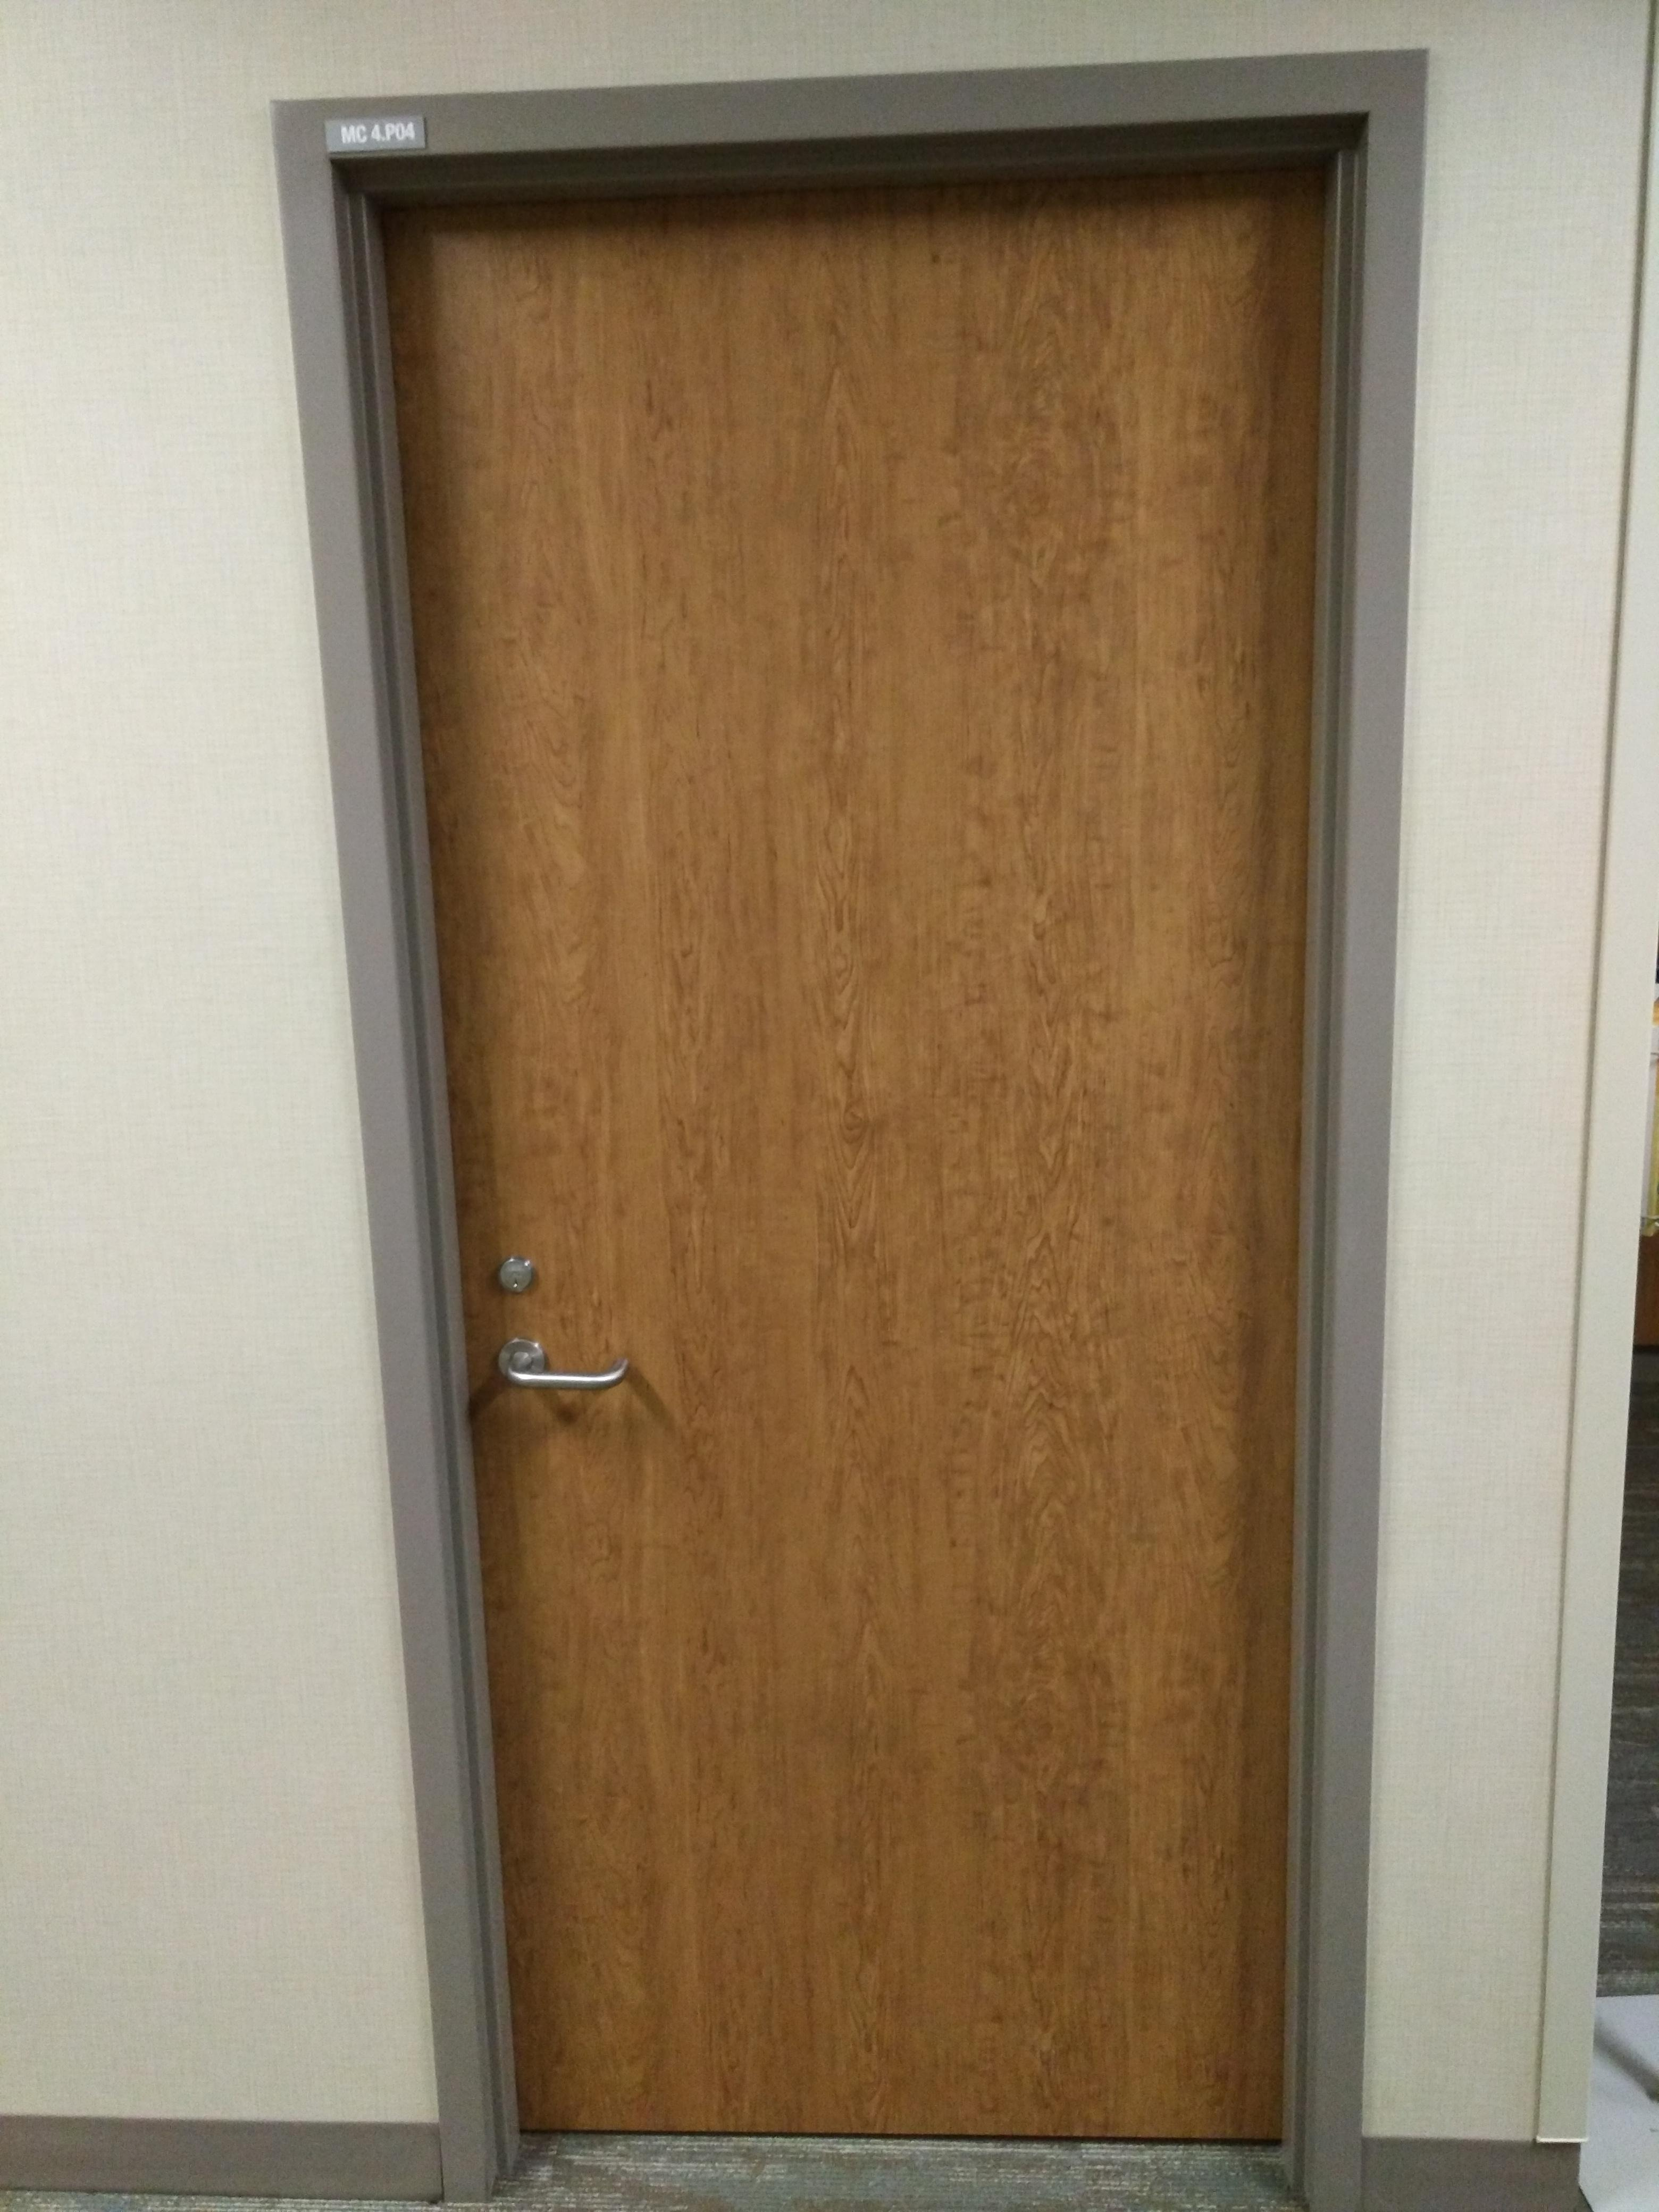door: (314, 106, 1354, 2200)
